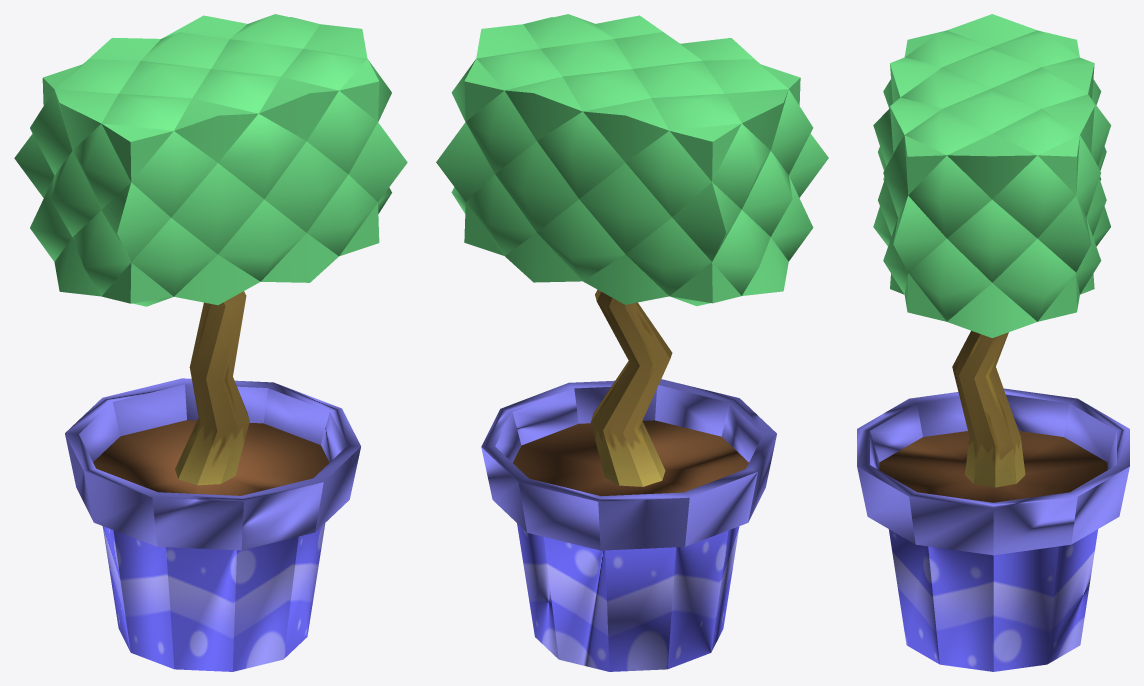
The model's file is friendTree.fbx.
3 renders of one model, left to right at view 1: azimuth 30°, elevation 25°; view 2: azimuth 150°, elevation 25°; view 3: azimuth 270°, elevation 25°, orthographic. The views are drawn at different scales.
Visible parts, largest first — view 1: polySurface8; view 2: polySurface8; view 3: polySurface8.
Boxes of the visible parts, x1=… form: polySurface8: x1=14, y1=14, x2=407, y2=671; polySurface8: x1=436, y1=14, x2=828, y2=671; polySurface8: x1=857, y1=14, x2=1129, y2=671.
Size of the model in its own units: 2.39 by 4.12 by 1.83.
